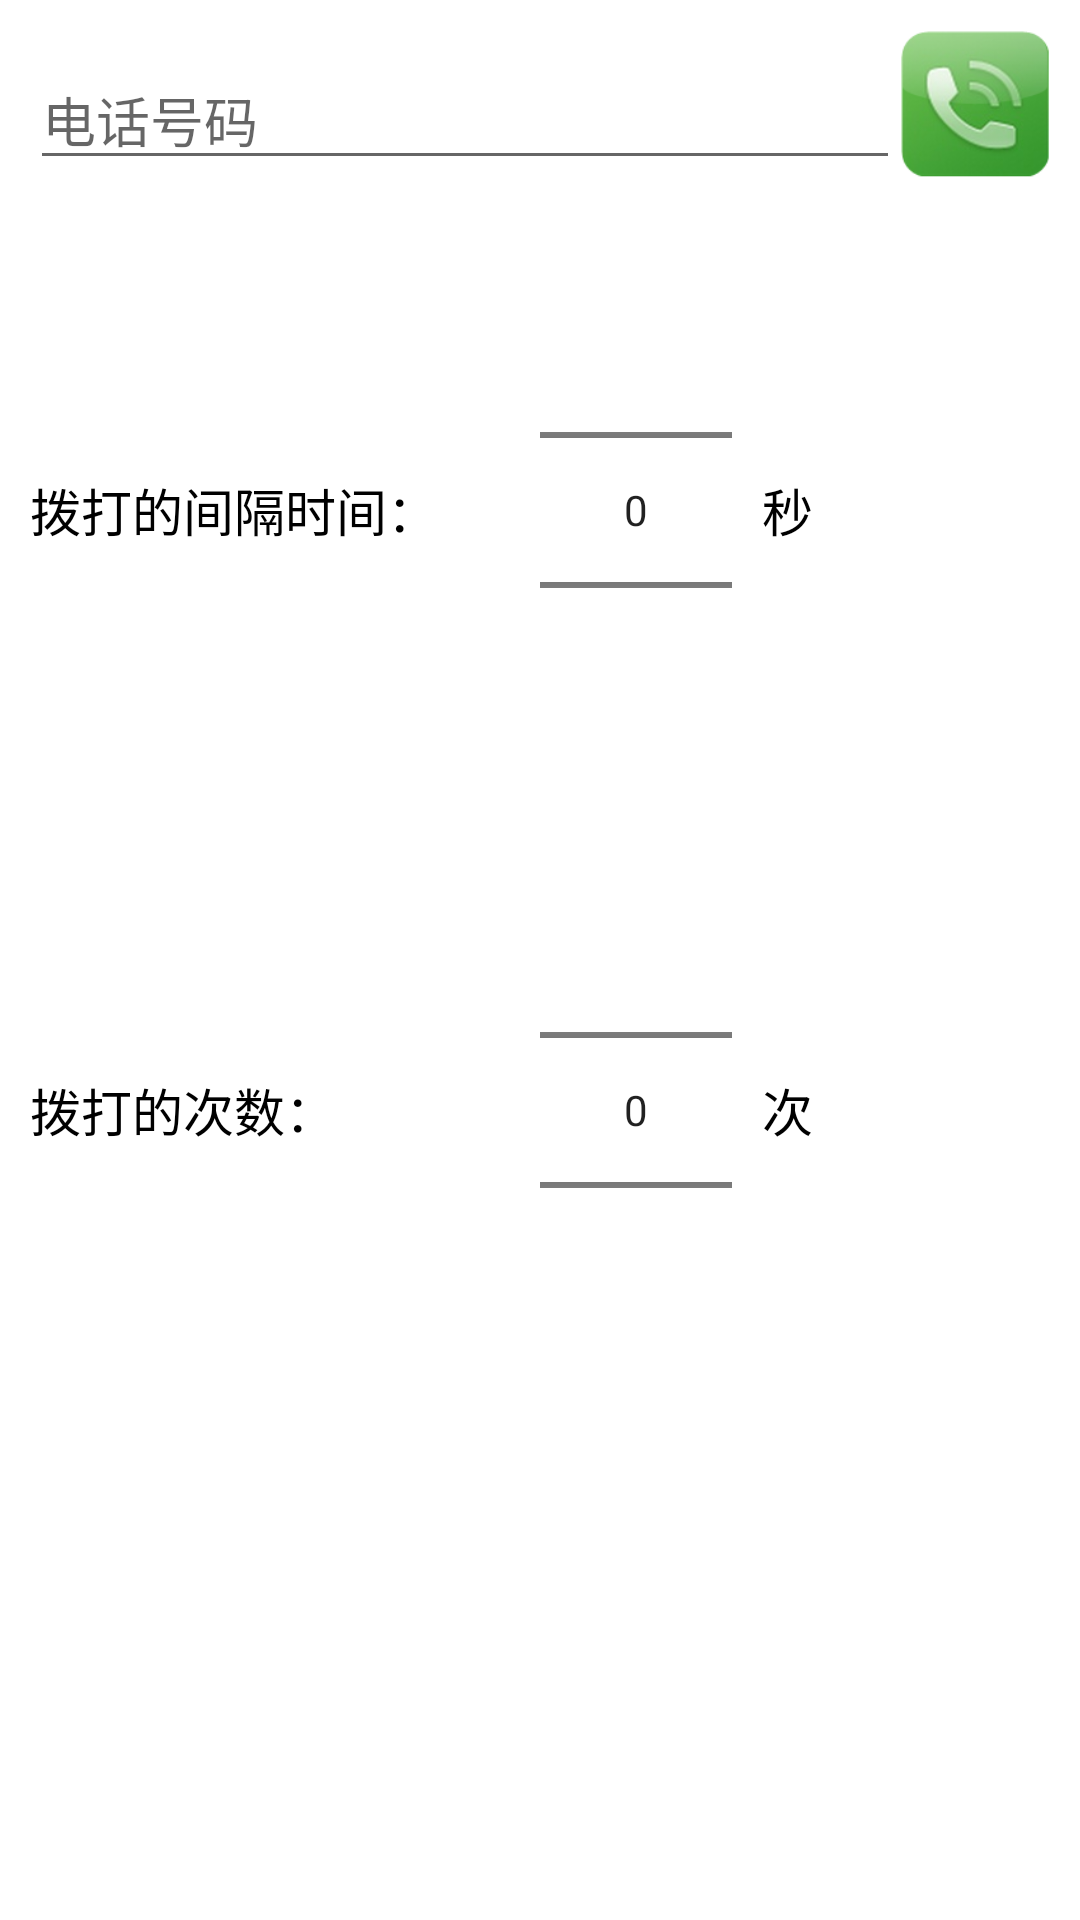

Named icons in this screenshot (1080w x 1920h) and their centers, [x,y]:
call: [975,104]
